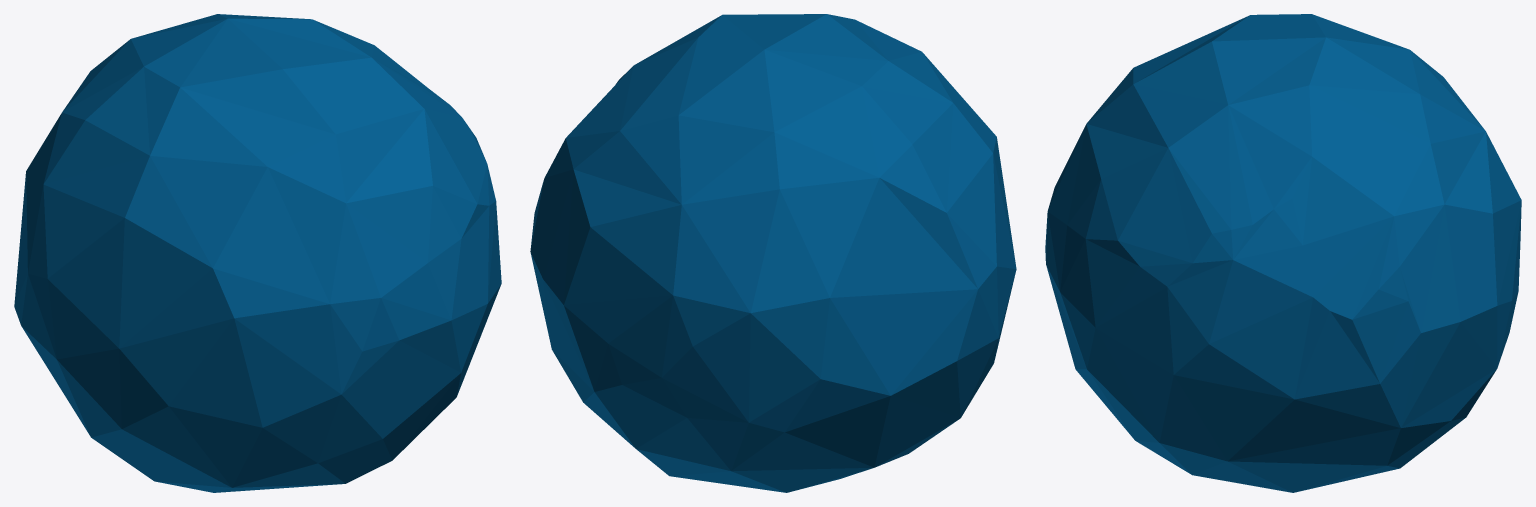
The model's file is Ocean_v1.fbx.
3 renders of one model, left to right at view 1: azimuth 30°, elevation 25°; view 2: azimuth 150°, elevation 25°; view 3: azimuth 270°, elevation 25°, orthographic. The views are drawn at different scales.
Parts seen in each view (by area): view 1: Ocean; view 2: Ocean; view 3: Ocean.
Boxes of the visible parts, bbox=[...] form: Ocean: bbox=[14, 14, 501, 492]; Ocean: bbox=[530, 14, 1016, 492]; Ocean: bbox=[1045, 14, 1521, 492].
Size of the model in its own units: 18.23 by 18.3 by 18.6.
